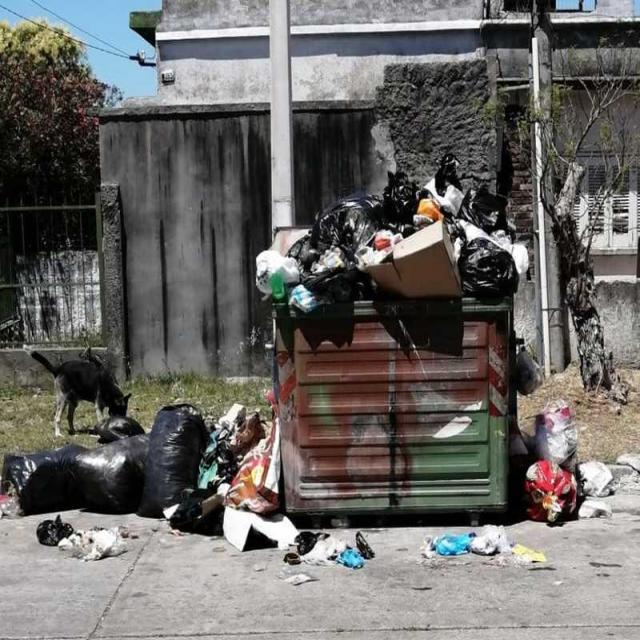garbage: (249, 158, 541, 317), (4, 414, 270, 564), (243, 512, 560, 588), (504, 324, 602, 540)
